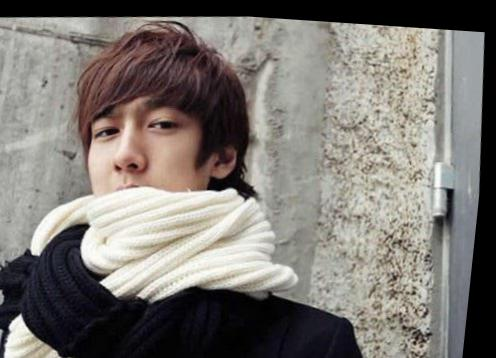WRONG: (74, 83, 220, 234)
